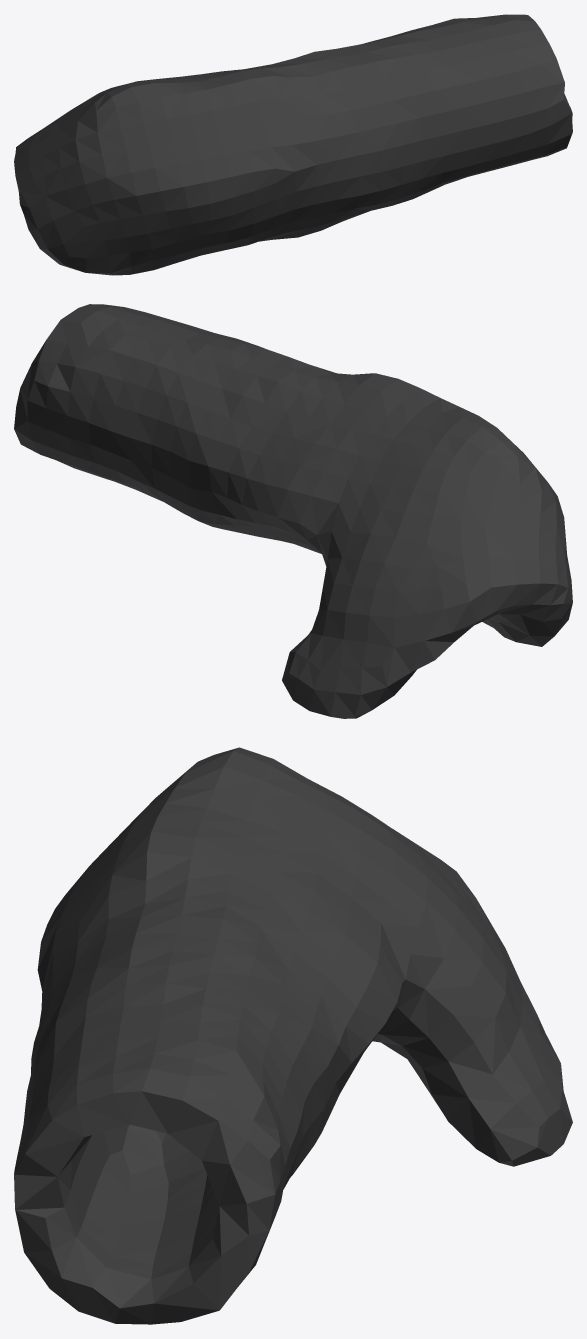
File: AORTA.glb
3 renders of one model, top to bottom at view 1: azimuth 30°, elevation 25°; view 2: azimuth 150°, elevation 25°; view 3: azimuth 270°, elevation 25°, orthographic. The views are drawn at different scales.
Visible parts, largest first — view 1: AORTA; view 2: AORTA; view 3: AORTA.
Boxes of the visible parts, x1,y1,x2,y2 form: AORTA: (14,14,572,275); AORTA: (14,304,572,718); AORTA: (14,747,572,1324).
Size of the model in its own units: 64.27 by 25.25 by 35.42.
Materials: 1 (1 with a texture image).
